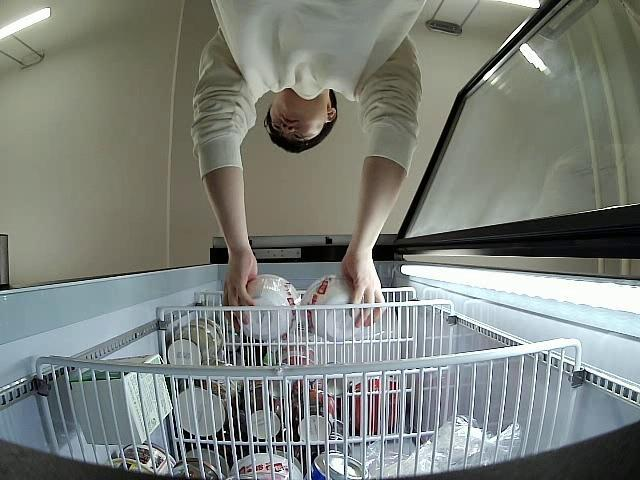09_yukGaeJang: (238, 275, 301, 340), (303, 276, 362, 343)
